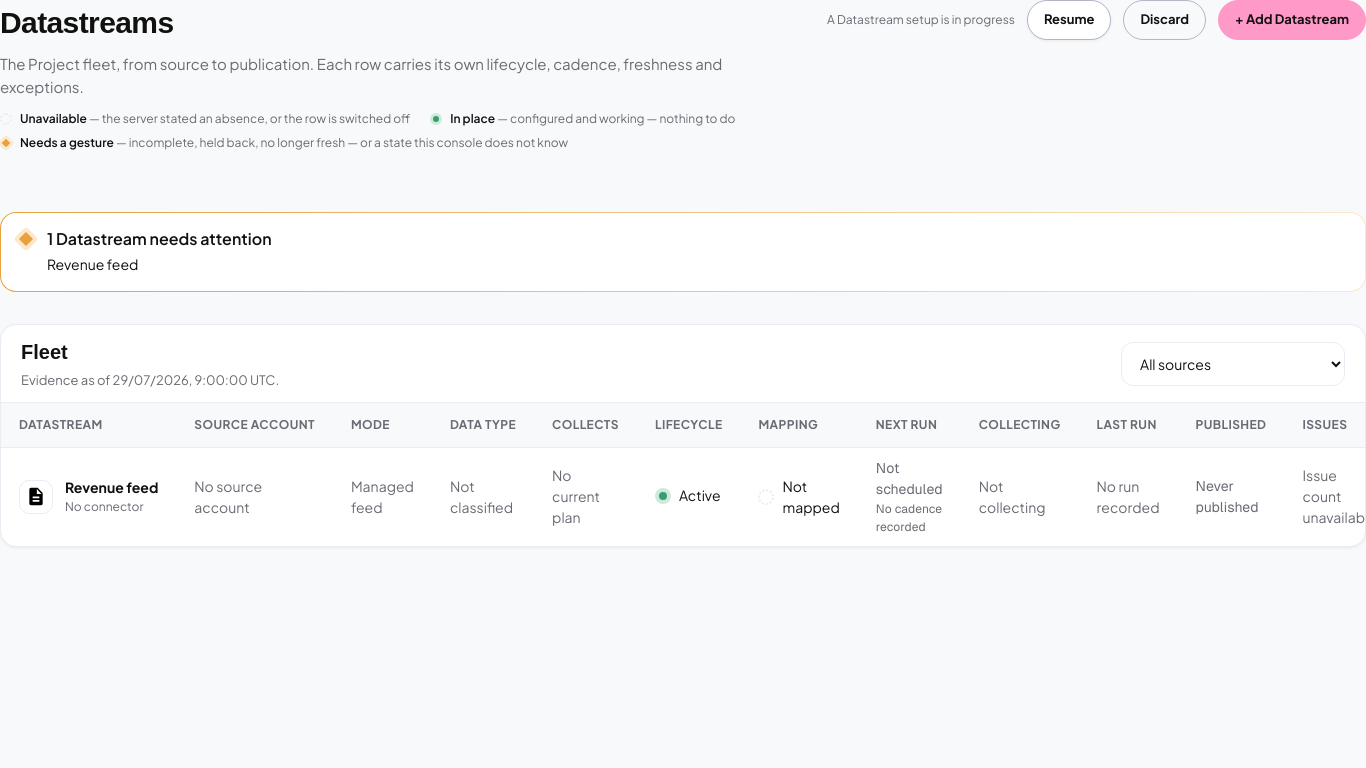
Test: ends the setup in progress, and stops offering a bridge to it
This screenshot has width=1366, height=768.
Expected: the text "A Datastream setup is in progress" is shown, x1=827 y1=11 x2=1015 y2=29
Click the button "Discard".
click(1165, 20)  # box x1=1124 y1=0 x2=1206 y2=40
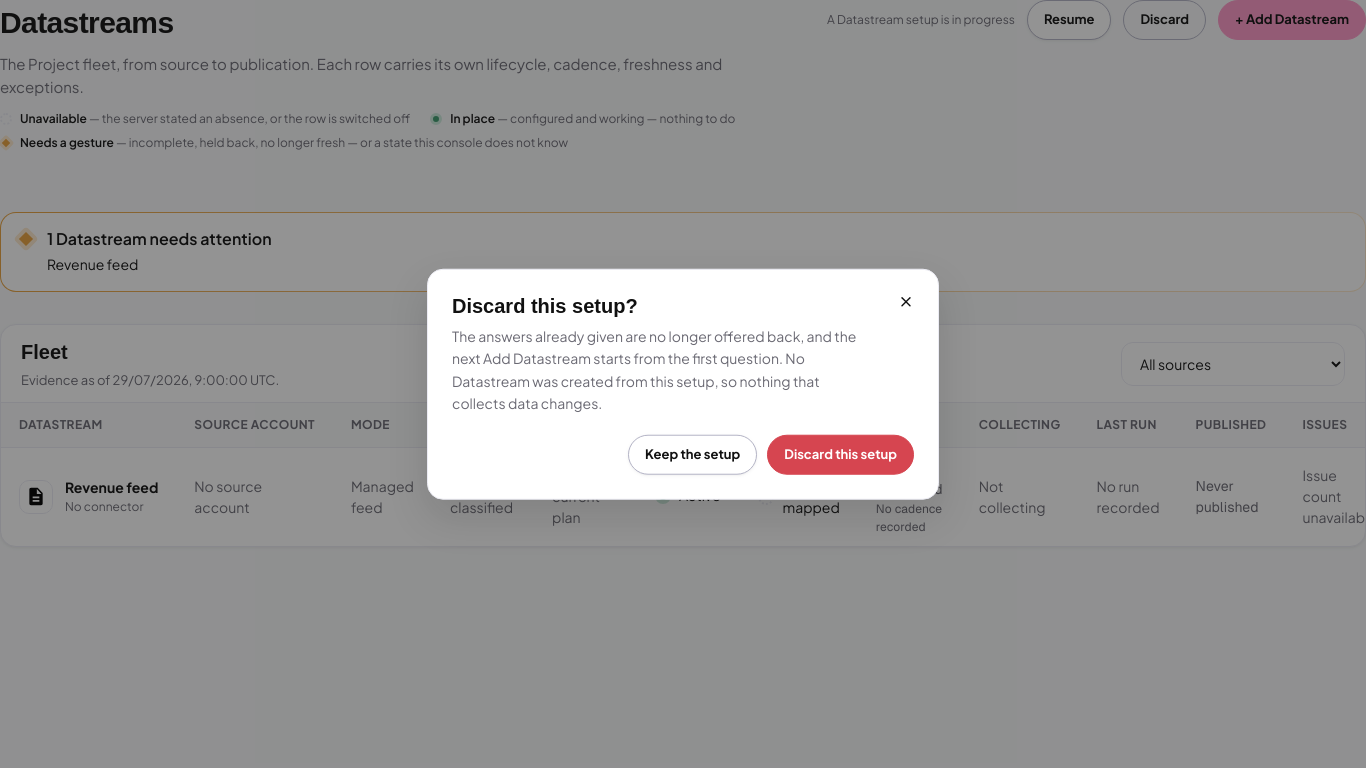
Expected: the dialog with test id "datastream-setup-discard" does not show "archiv", x1=427 y1=269 x2=939 y2=499
Expected: the dialog with test id "datastream-setup-discard" shows "No Datastream was created from this setup", x1=452 y1=327 x2=856 y2=412
Expected: the button with test id "datastream-setup-discard-cancel" reads "Keep the setup", x1=628 y1=434 x2=757 y2=474
Click the button with test id "datastream-setup-discard-confirm".
click(841, 454)  # box x1=767 y1=434 x2=914 y2=474
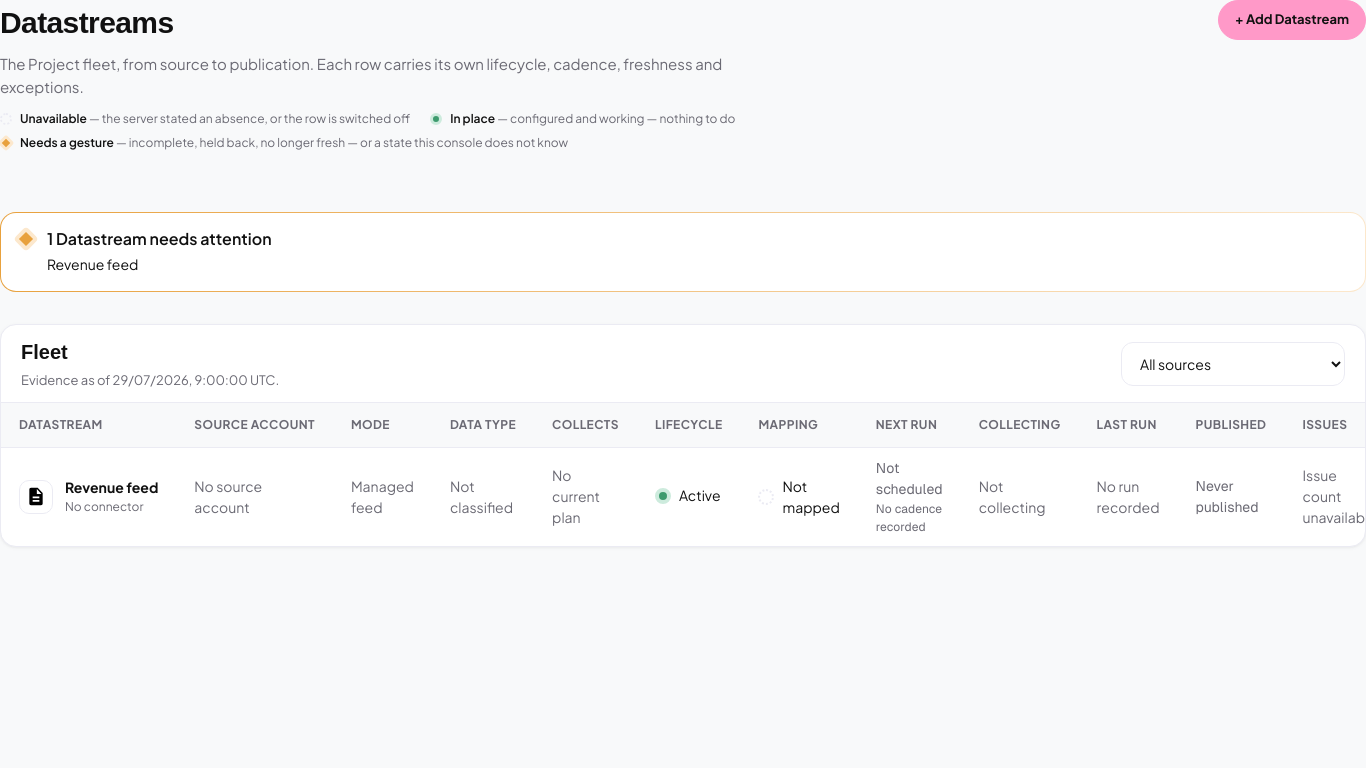
Expected: the button "+ Add Datastream" is shown, x1=1218 y1=0 x2=1365 y2=40
Expected: the text "A Datastream setup is in progress" is gone
